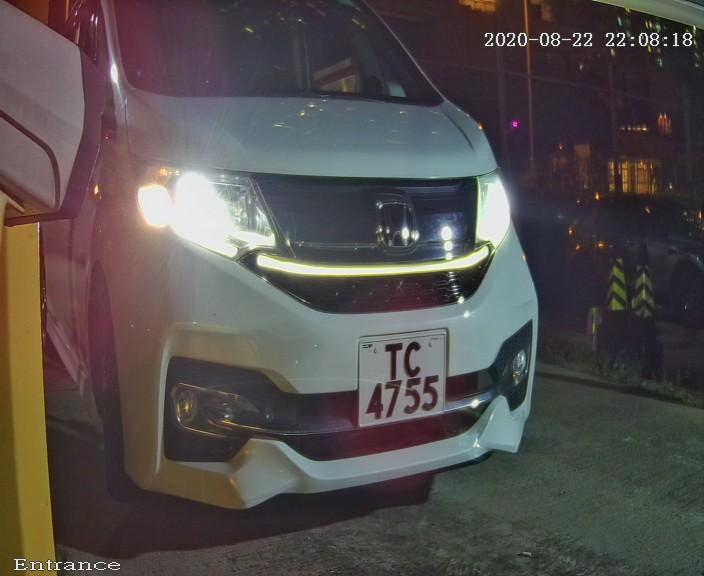License Plate: (349, 322, 466, 433)
